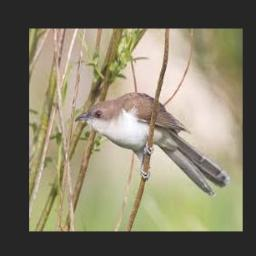Cuckoo: (75, 92, 231, 197)
